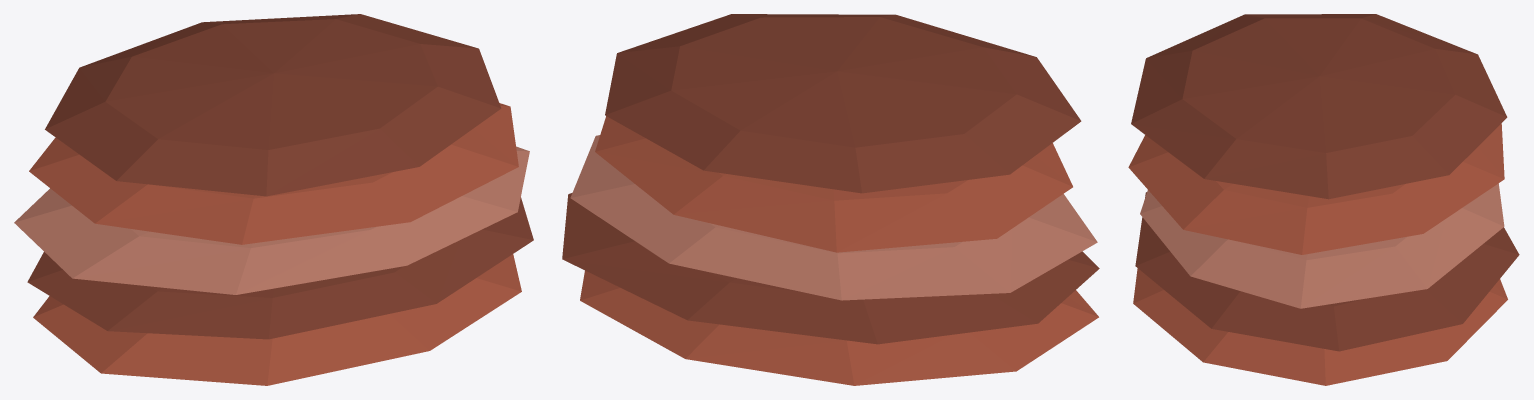
Rendered from lake-sandstone-shallows-0.glb.
The picture shows the model from 3 angles, left to right: view 1: azimuth 30°, elevation 25°; view 2: azimuth 150°, elevation 25°; view 3: azimuth 270°, elevation 25°; orthographic projection. The views are drawn at different scales.
Visible parts, largest first — view 1: lake-sandstone-shallows-0; view 2: lake-sandstone-shallows-0; view 3: lake-sandstone-shallows-0.
Boxes of the visible parts, box(x1,y1,x2,y2) form: lake-sandstone-shallows-0: box(14, 14, 533, 385); lake-sandstone-shallows-0: box(562, 14, 1099, 385); lake-sandstone-shallows-0: box(1128, 14, 1519, 385).
Size of the model in its own units: 0.7734 by 0.3777 by 0.588.
